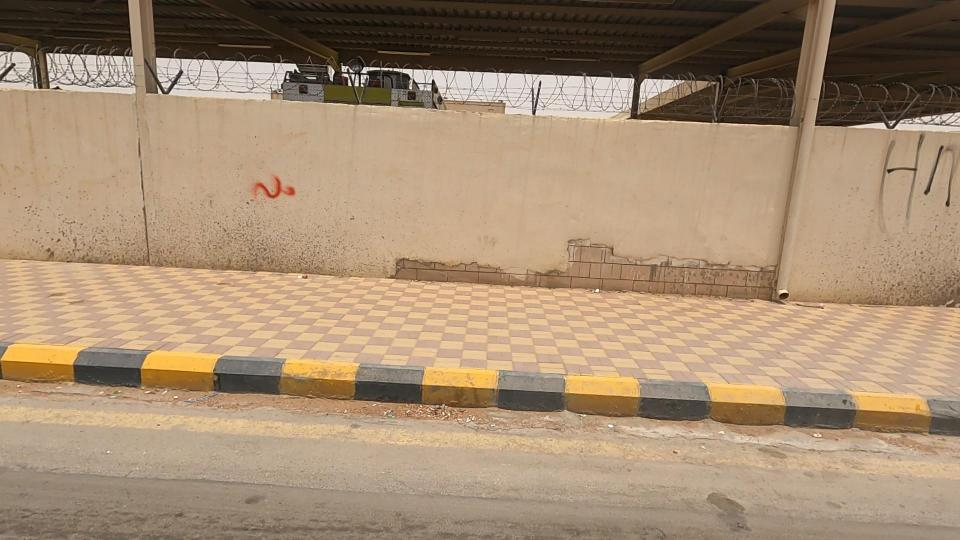GRAFFITI: (833, 93, 960, 268), (205, 152, 335, 229)
